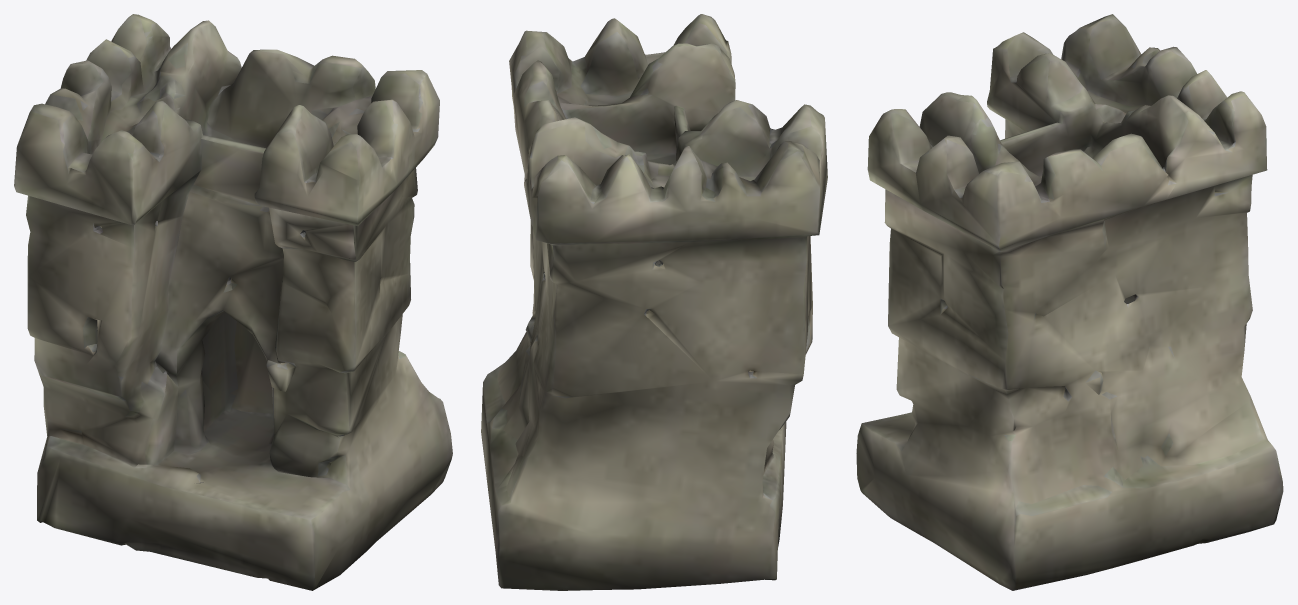
The model's file is rustic-limestone-battlement-wall-v001.glb.
3 views of the same model, side by side, from view 1: azimuth 30°, elevation 25°; view 2: azimuth 150°, elevation 25°; view 3: azimuth 270°, elevation 25° (orthographic). The views are drawn at different scales.
Visible parts, largest first — view 1: rustic-limestone-battlement-wall; view 2: rustic-limestone-battlement-wall; view 3: rustic-limestone-battlement-wall.
Boxes of the visible parts, x1,y1,x2,y2 form: rustic-limestone-battlement-wall: [14, 14, 452, 590]; rustic-limestone-battlement-wall: [481, 14, 827, 590]; rustic-limestone-battlement-wall: [856, 14, 1283, 590].
Size of the model in its own units: 1.87 by 2.03 by 1.86.
Materials: 1 (1 with a texture image).
